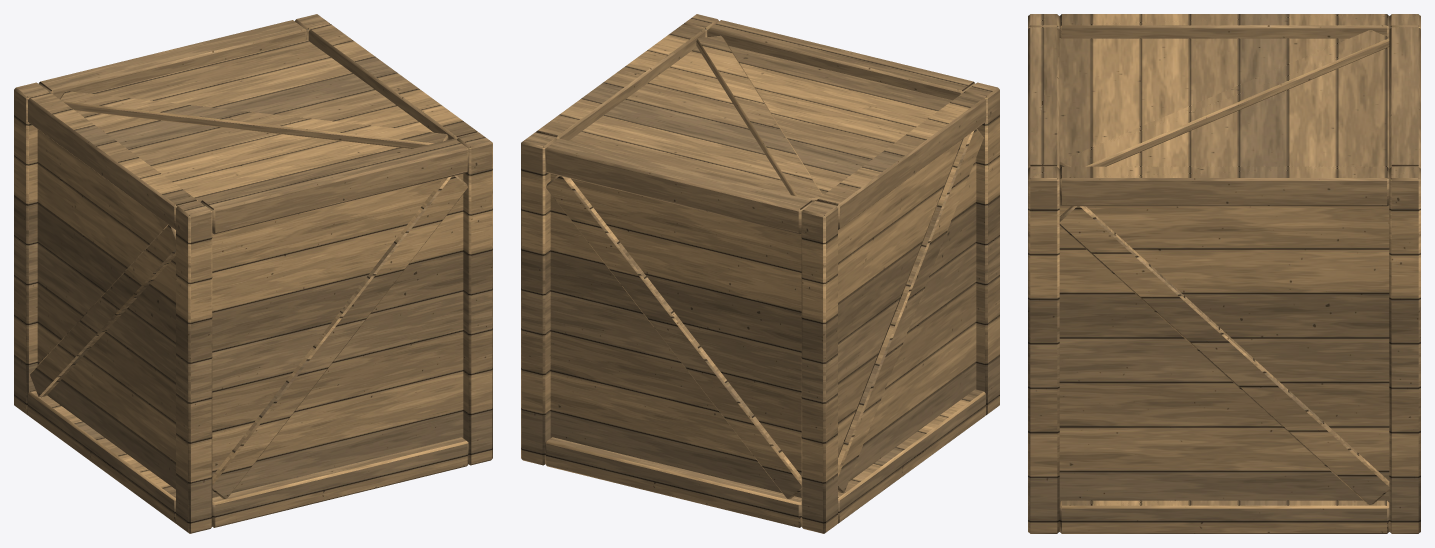
The model's file is crate.glb.
3 views of the same model, side by side, from view 1: azimuth 30°, elevation 25°; view 2: azimuth 150°, elevation 25°; view 3: azimuth 270°, elevation 25° (orthographic). The views are drawn at different scales.
Parts seen in each view (by area): view 1: crate; view 2: crate; view 3: crate.
Boxes of the visible parts, left/top/right/bottom form: crate: left=14, top=14, right=492, bottom=533; crate: left=521, top=14, right=999, bottom=533; crate: left=1028, top=14, right=1420, bottom=533.
Size of the model in its own units: 2 by 2 by 2.
1 material, 1 textured.
